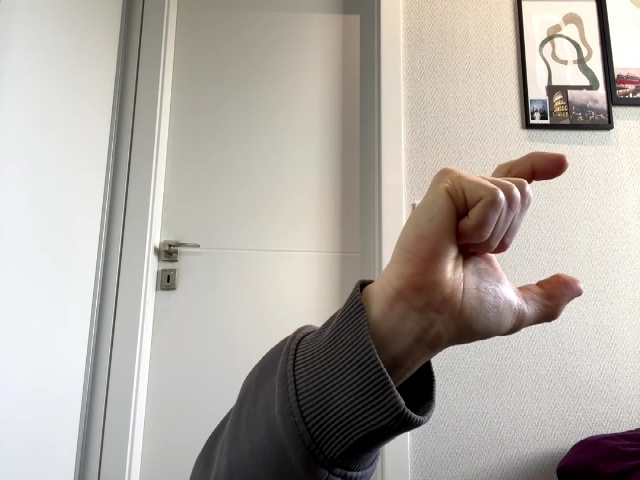C: (385, 152, 584, 348)
